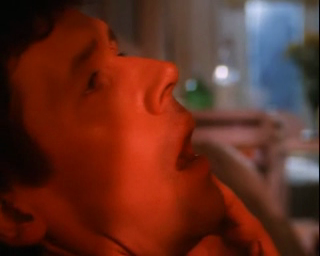ecu: (1, 1, 320, 256)
face: (13, 8, 228, 235)
person: (1, 1, 280, 256)
